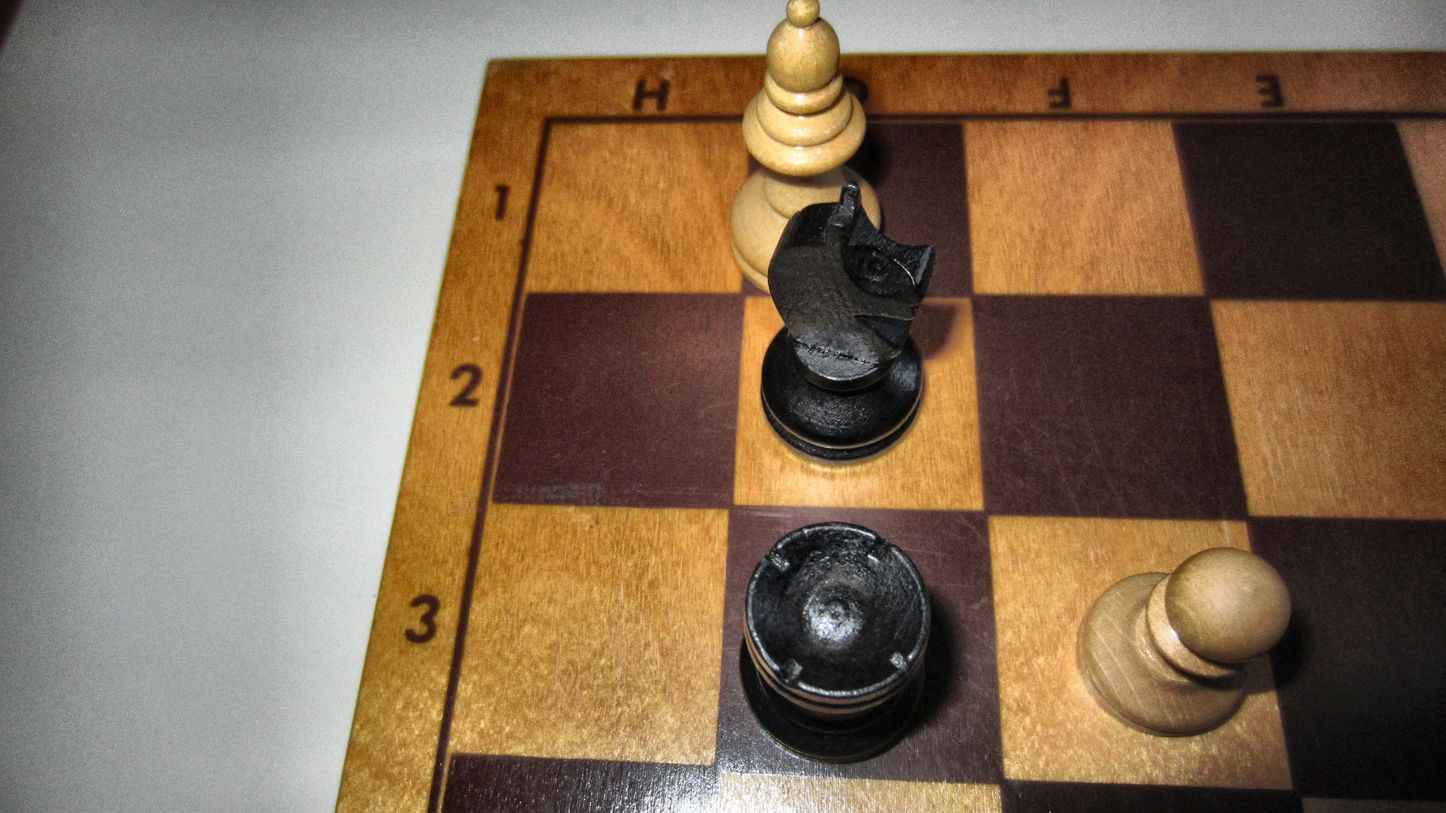black-knight: (758, 180, 940, 474)
black-rook: (732, 519, 934, 767)
white-bishop: (728, 0, 883, 298)
white-pawn: (1067, 543, 1294, 738)
